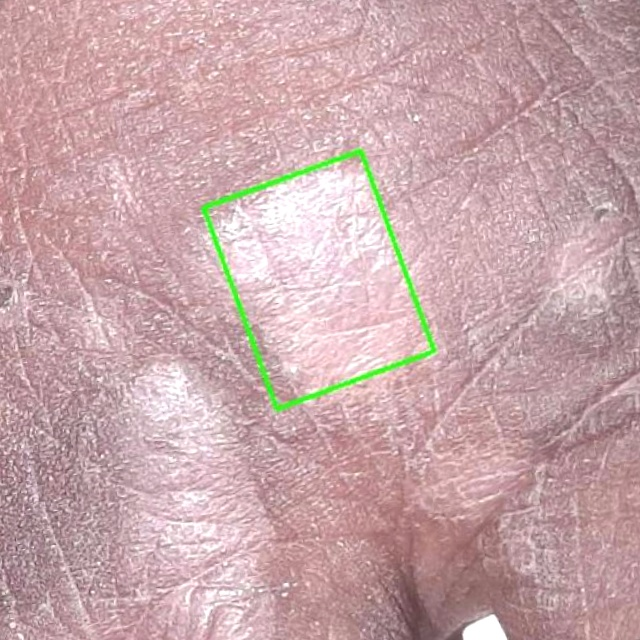Eczema: (204, 151, 434, 409)
